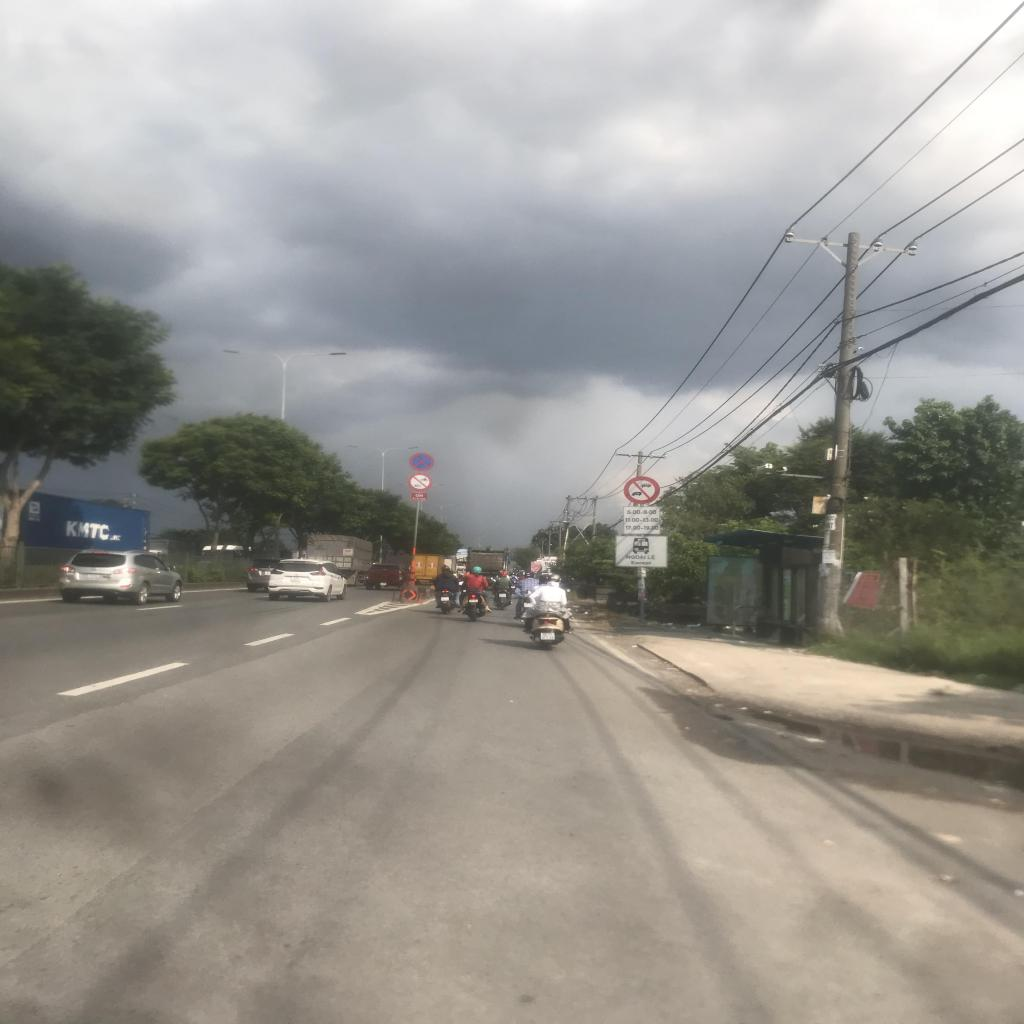cam_dung_xe_va_do_xe: (409, 453, 435, 471)
cam_o_to_tai_va_xe_khach: (624, 476, 660, 504)
cam_xe_2_banh_va_xe_3_banh_co_dong_co: (408, 473, 432, 491)
khac: (616, 536, 666, 566), (624, 507, 659, 534)
